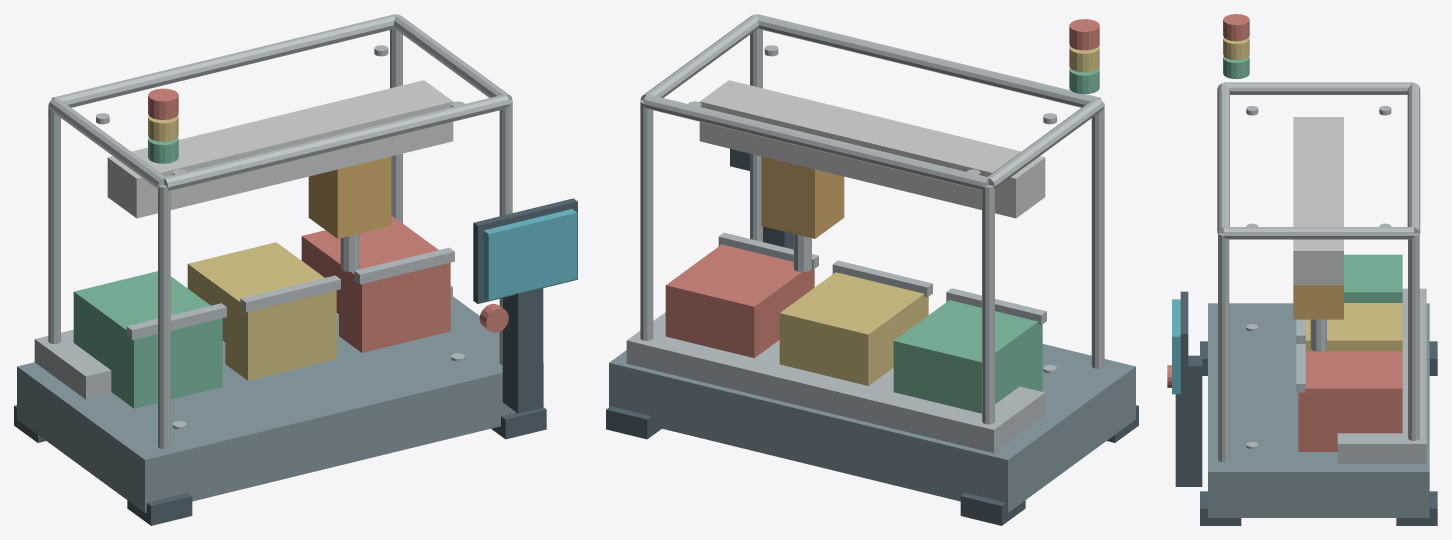
File: scorer.glb
3 views of the same model, side by side, from view 1: azimuth 30°, elevation 25°; view 2: azimuth 150°, elevation 25°; view 3: azimuth 270°, elevation 25° (orthographic). The views are drawn at different scales.
Visible parts, largest first — view 1: fabricated_base, sort_gantry, bin_0, bin_-1.8, bin_1.8, operator_hmi_screen, sort_carriage, toprail_1.5, toprail_-1.5, operator_hmi_pedestal, frame_-2.7_1.5, control_plinth (+16 smaller); view 2: fabricated_base, sort_gantry, control_plinth, bin_0, bin_-1.8, bin_1.8, sort_carriage, toprail_-1.5, toprail_1.5, frame_-2.7_1.5, frame_2.7_-1.5, frame_-2.7_-1.5 (+12 smaller); view 3: fabricated_base, bin_1.8, sort_gantry, control_plinth, bin_0, operator_hmi_pedestal, bin_-1.8, frame_2.7_1.5, crossrail_2.7, frame_2.7_-1.5, crossrail_-2.7, toprail_-1.5 (+11 smaller).
Part boxes in pixels (box(x1,y1,x2,y2)): fabricated_base: box(17, 296, 543, 512); sort_gantry: box(107, 80, 453, 218); bin_0: box(187, 242, 336, 380); bin_-1.8: box(73, 271, 222, 408); bin_1.8: box(301, 216, 450, 352); operator_hmi_screen: box(483, 209, 577, 300); sort_carriage: box(308, 156, 391, 238); toprail_1.5: box(163, 94, 509, 190); toprail_-1.5: box(51, 14, 396, 107); operator_hmi_pedestal: box(502, 287, 543, 413); frame_-2.7_1.5: box(158, 185, 170, 449); control_plinth: box(34, 285, 452, 399); fabricated_base: box(609, 344, 1135, 512); sort_gantry: box(699, 80, 1045, 218); control_plinth: box(626, 312, 1044, 452); bin_0: box(779, 272, 928, 385); bin_-1.8: box(893, 300, 1042, 413); bin_1.8: box(665, 244, 814, 358); sort_carriage: box(761, 155, 844, 238); toprail_-1.5: box(643, 94, 988, 190); toprail_1.5: box(756, 14, 1101, 107); frame_-2.7_1.5: box(1091, 103, 1104, 368); frame_2.7_-1.5: box(640, 100, 653, 340); frame_-2.7_-1.5: box(982, 185, 994, 424); fabricated_base: box(1208, 303, 1429, 517); bin_1.8: box(1298, 351, 1402, 451); sort_gantry: box(1293, 117, 1343, 285); control_plinth: box(1337, 288, 1426, 463); bin_0: box(1305, 303, 1402, 351); operator_hmi_pedestal: box(1175, 355, 1202, 486); bin_-1.8: box(1344, 254, 1402, 302); frame_2.7_1.5: box(1218, 233, 1229, 462); crossrail_2.7: box(1223, 227, 1413, 239); frame_2.7_-1.5: box(1408, 233, 1419, 440); crossrail_-2.7: box(1223, 82, 1413, 94); toprail_-1.5: box(1407, 83, 1420, 233).
Size of the model in its own units: 6.59 by 6.15 by 4.27.
